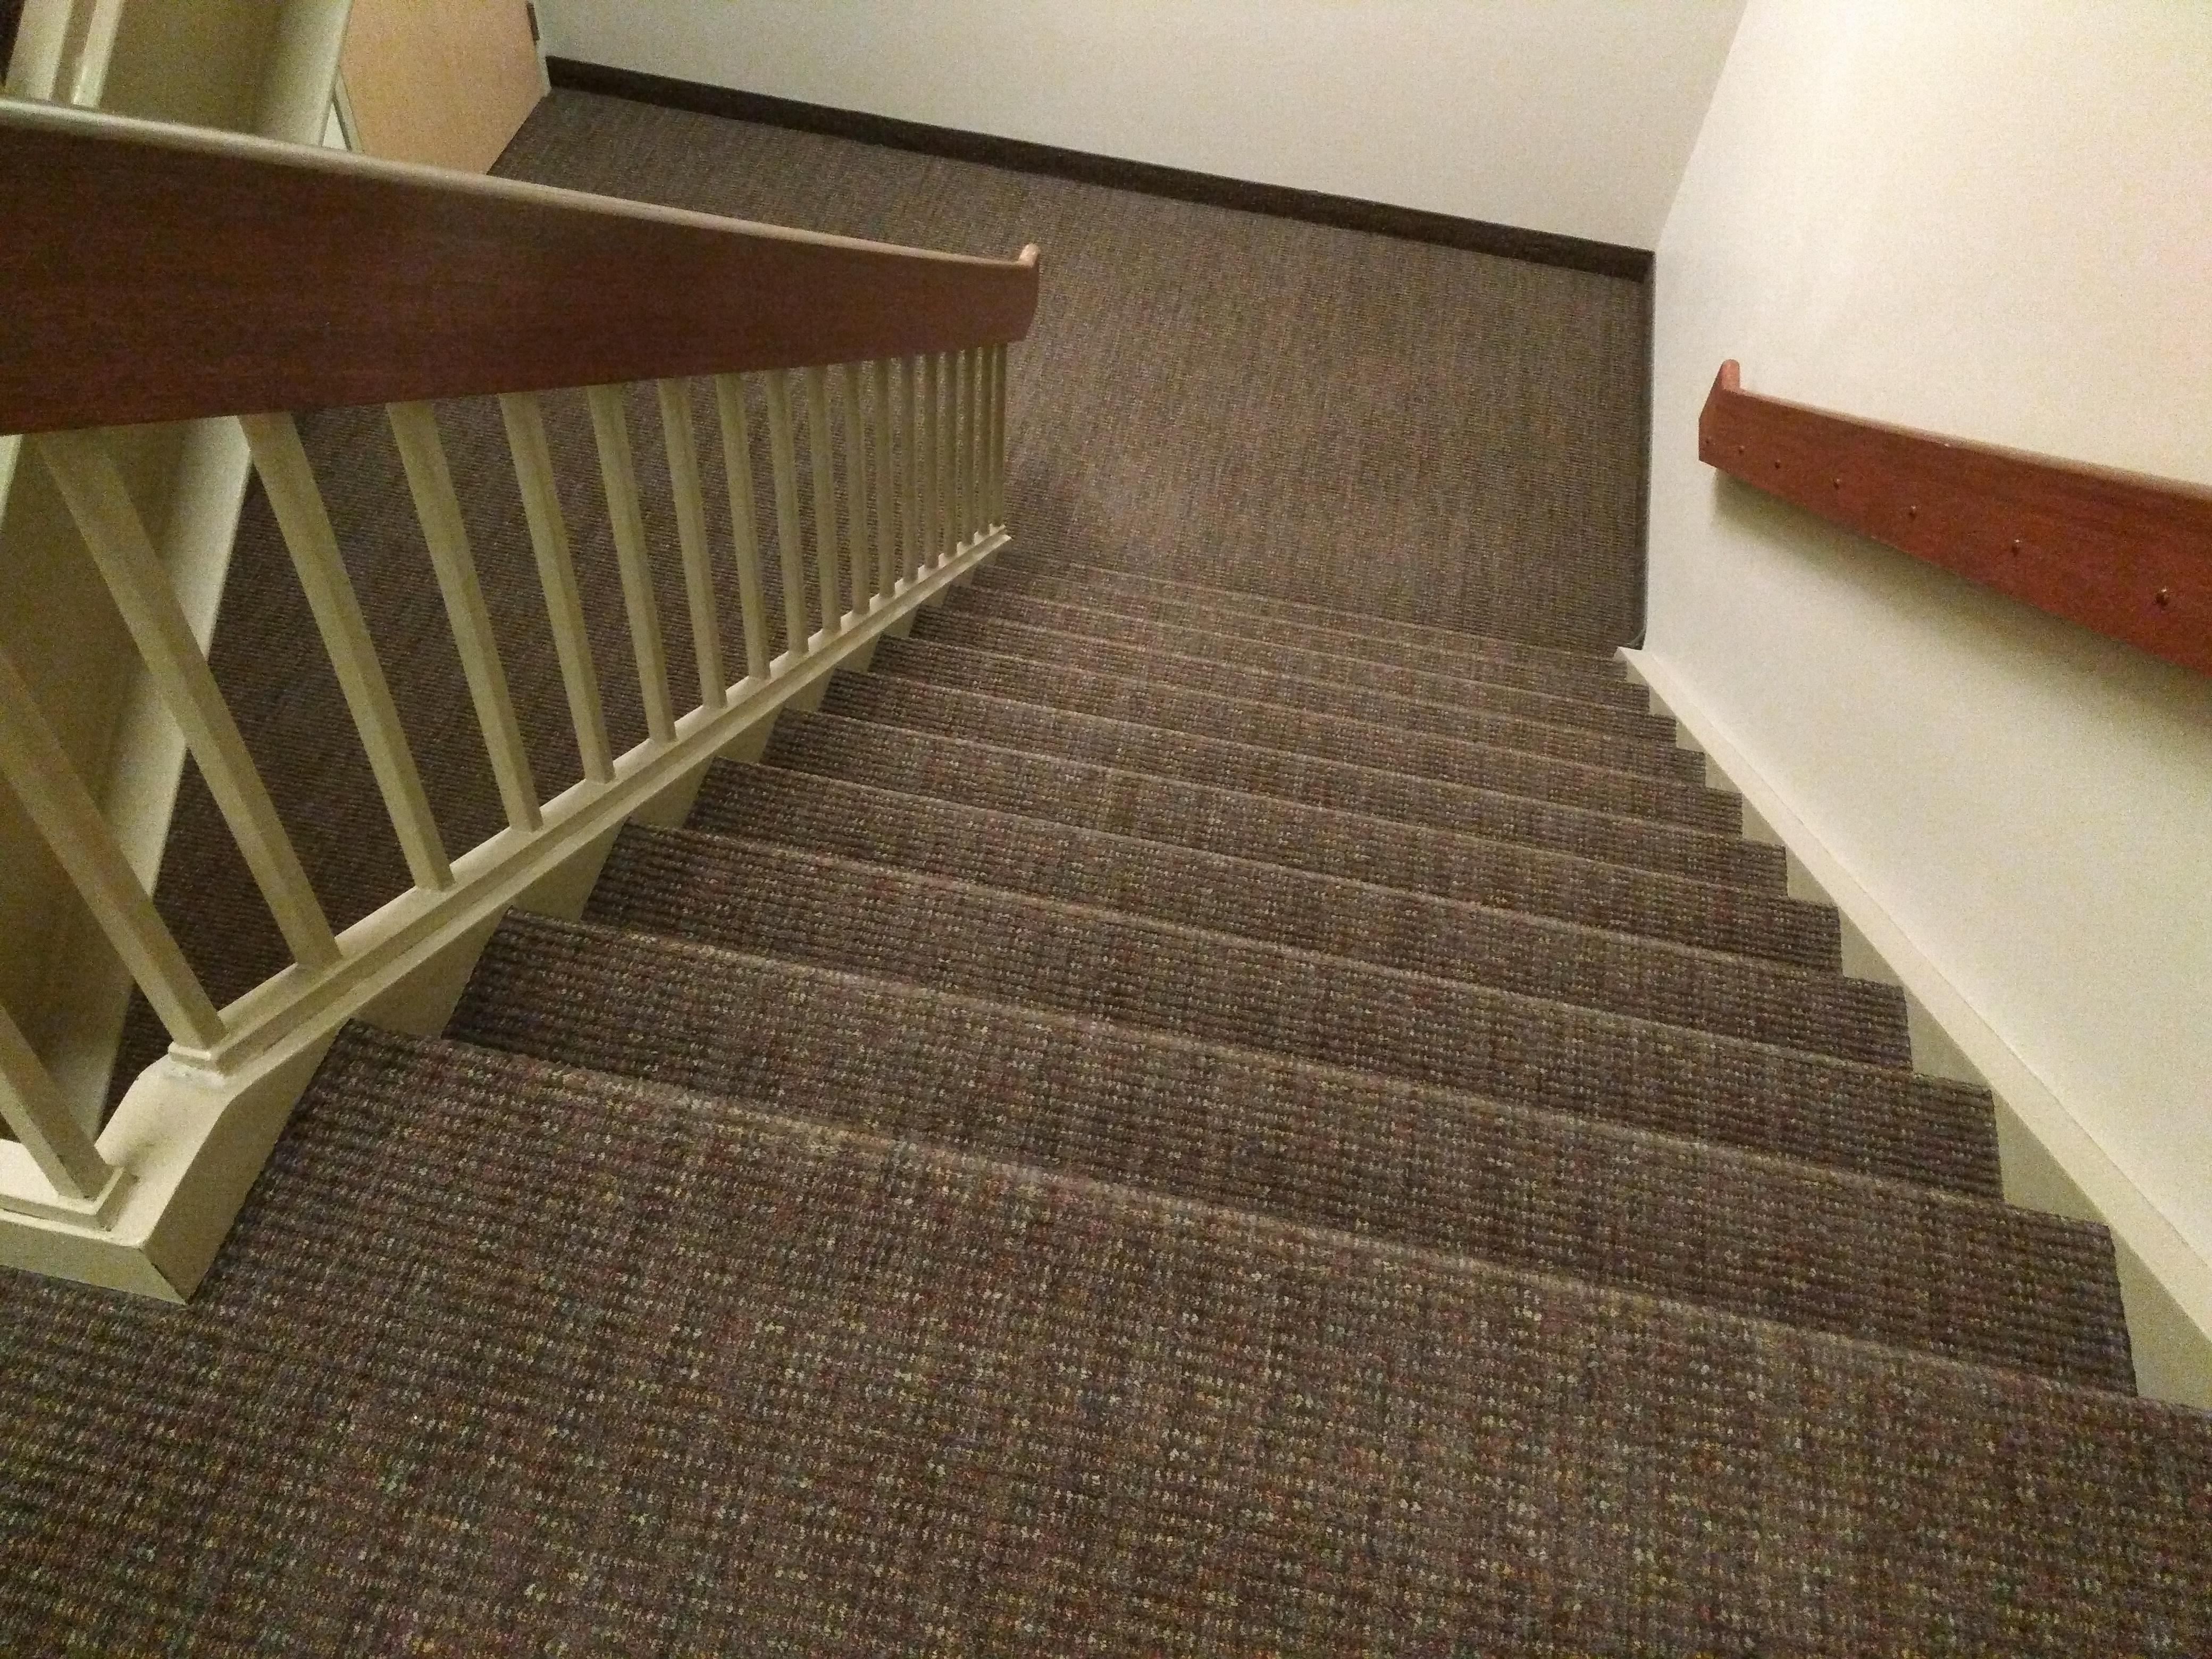stairs_down: (329, 474, 2212, 1471)
